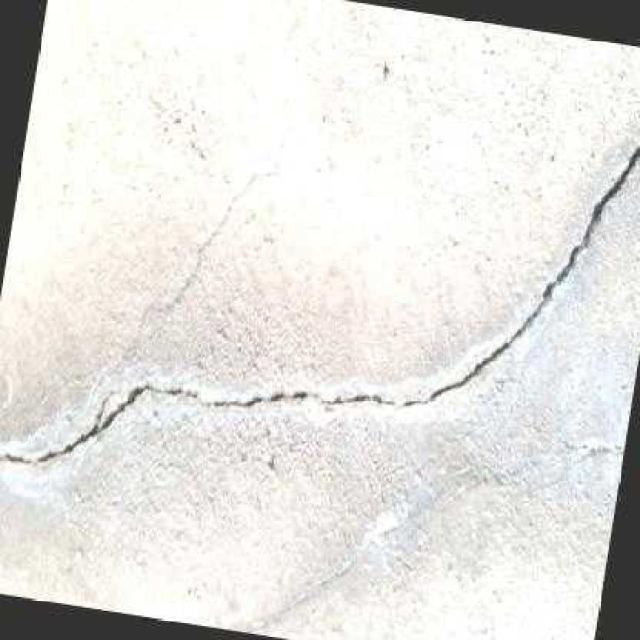D00: (0, 143, 640, 464)
